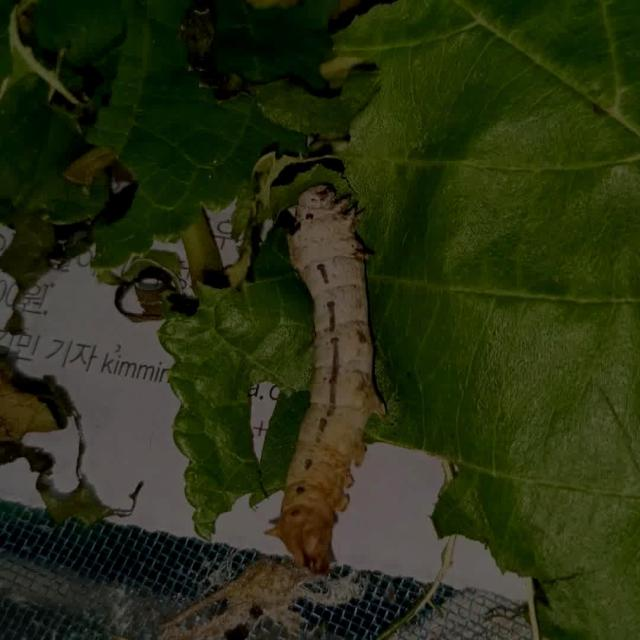Grasserie: (246, 173, 398, 576)
